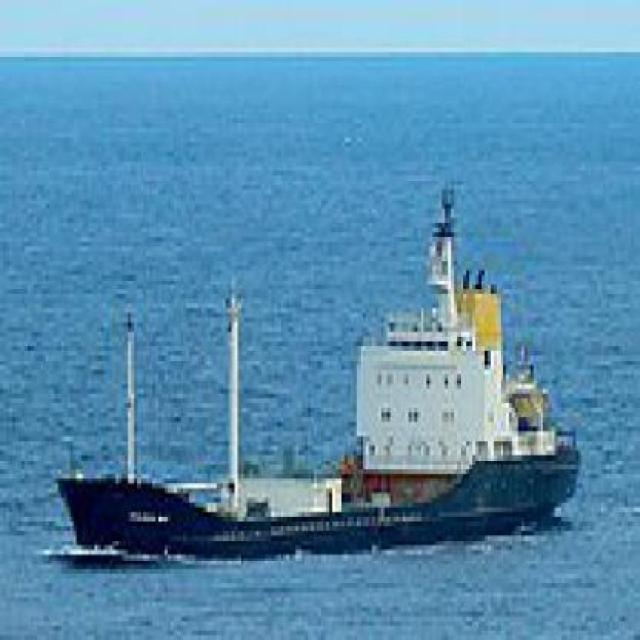container: (47, 176, 590, 551)
